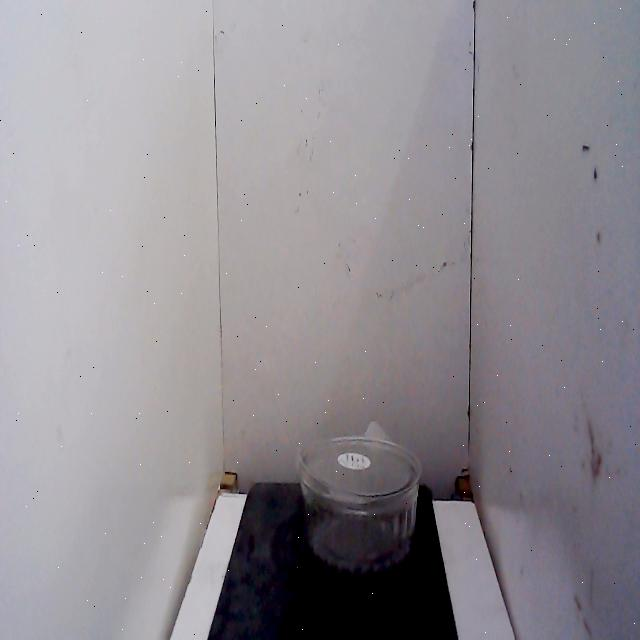plastico: (289, 414, 427, 588)
